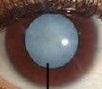eye: (7, 8, 98, 87)
